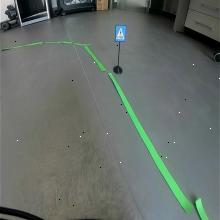crosswalk: (114, 24, 127, 42)
